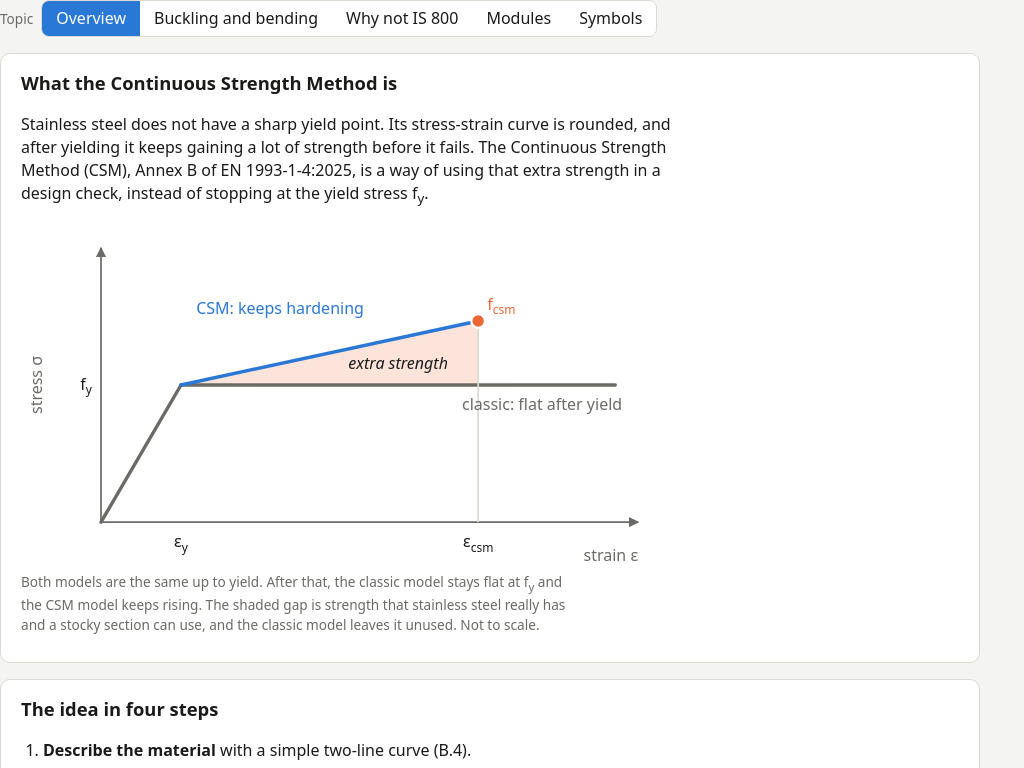
Test: Help page › explains buckling, local buckling and plastic bending against IS 800
This screenshot has width=1024, height=768.
Click the radio button labelled "Buckling and bending".
click(236, 19)  # box [140,1,332,36]
(page scrolled)
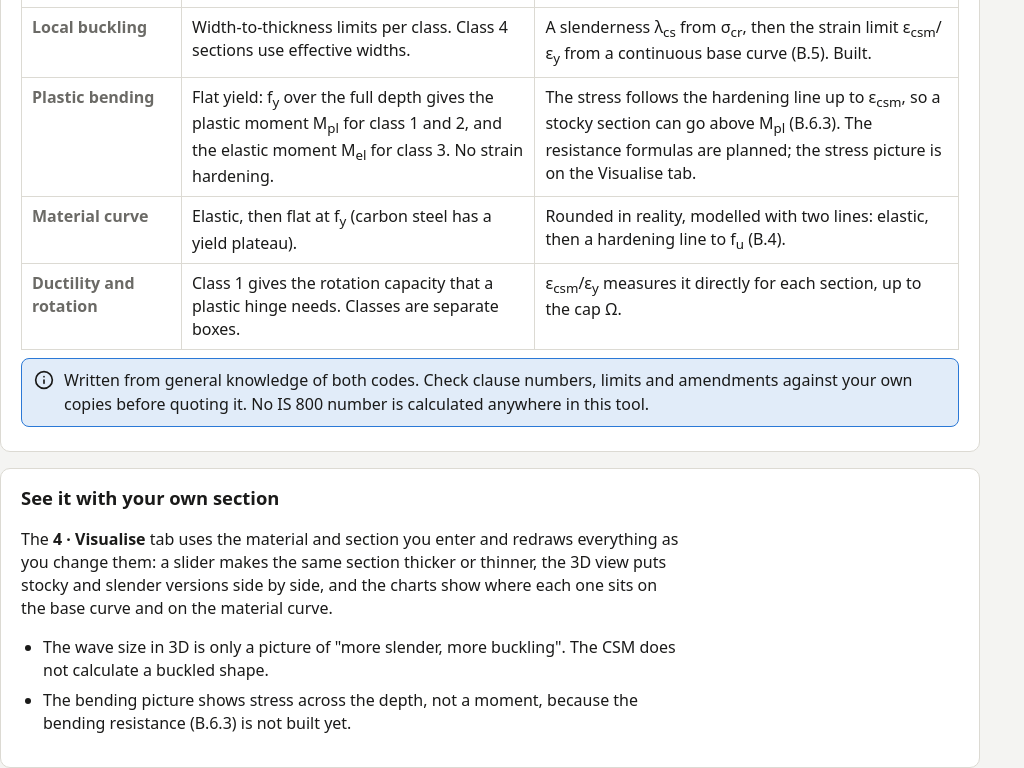
Check: the text "No IS 800 number is calculated" is shown, box [64,369,912,415]
